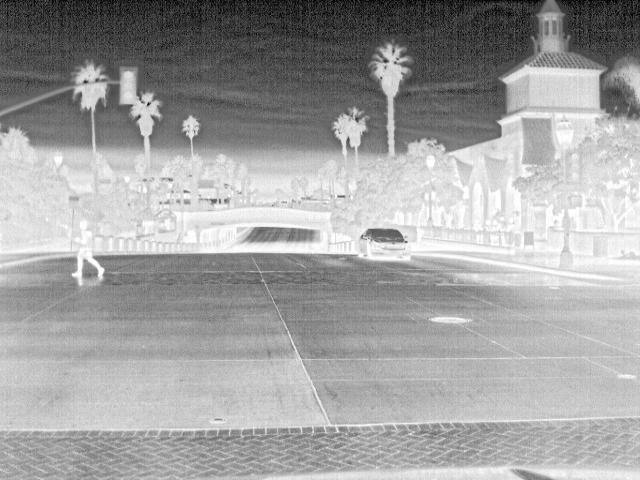car: (355, 225, 413, 262)
person: (68, 218, 107, 280), (497, 214, 509, 232), (473, 214, 486, 230), (505, 216, 519, 230), (489, 218, 502, 232)
